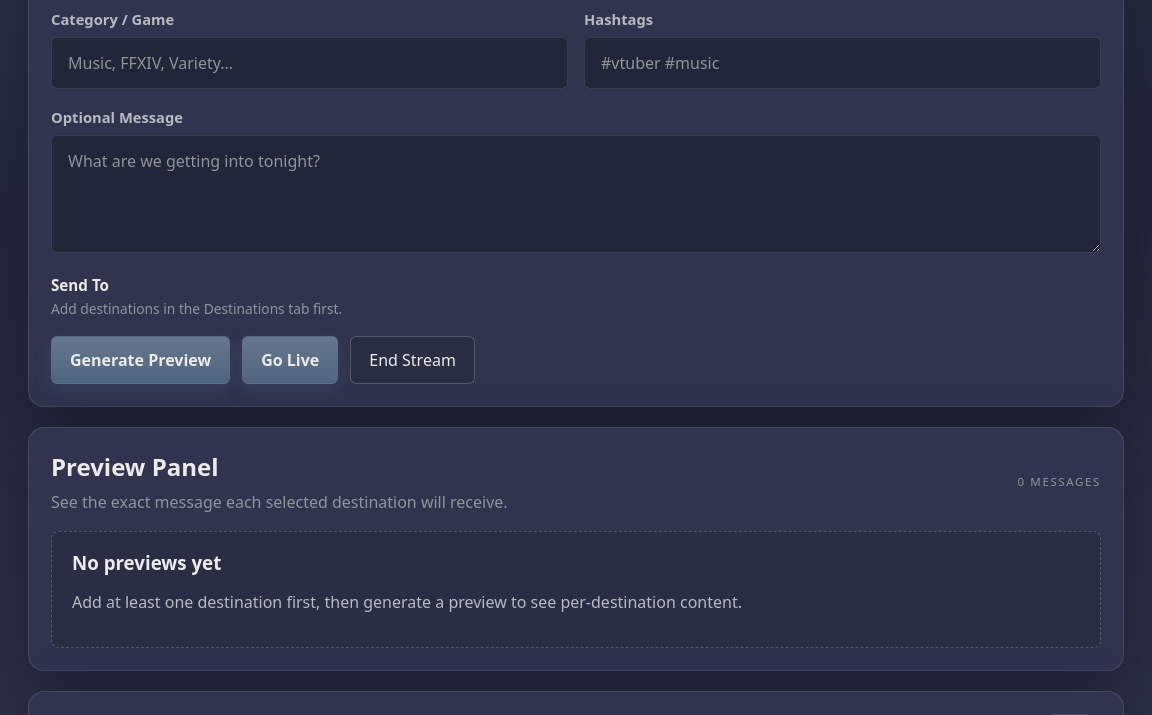
Test: App › runs Go Live from the Home tab and shows per-destination failures
(page scrolled)
What coordinates should you click on to do the following:
click the button "Go Live"
I would click on:
 (290, 360)
Its box is [242,336,338,384].
(page scrolled)
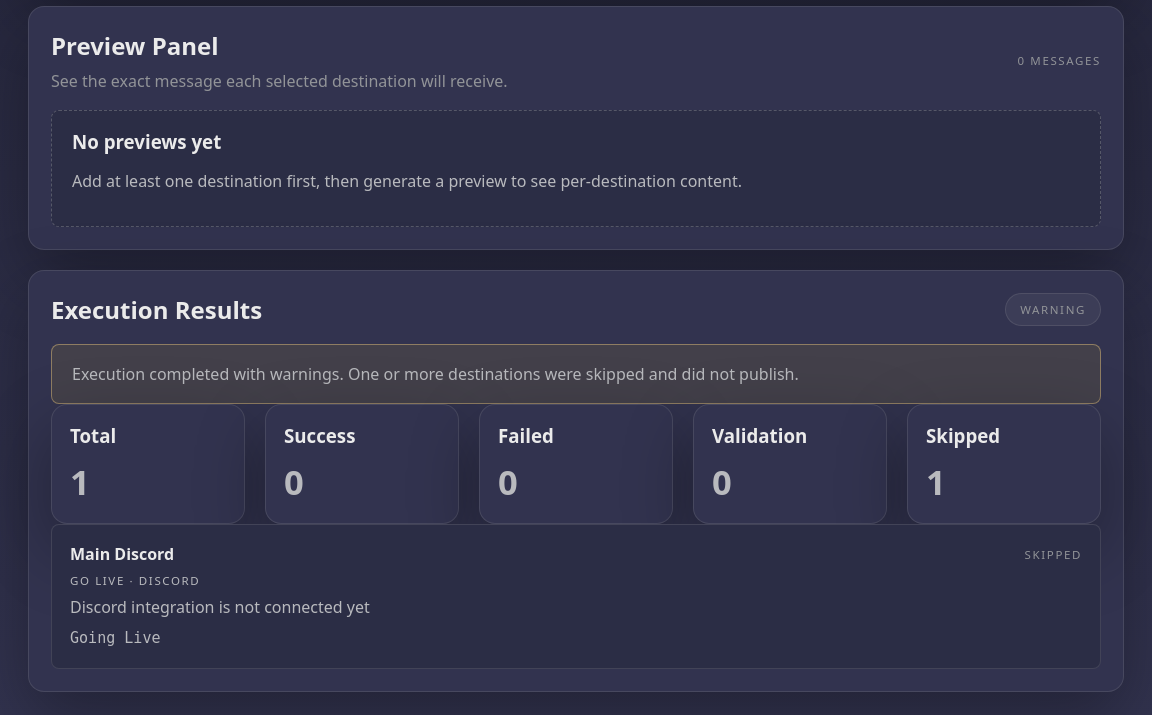
Check: the text "Discord integration is not connected yet" is shown, box [70,596,370,618]
Check: the text "SKIPPED" is shown, box [1025,546,1082,562]
Check: the text "completed with warnings. One or more destinations were skipped" is shown, box [72,363,799,385]
